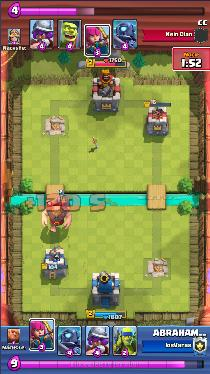ally_knight: (55, 196, 70, 206)
enemy_giant: (42, 206, 72, 232)
